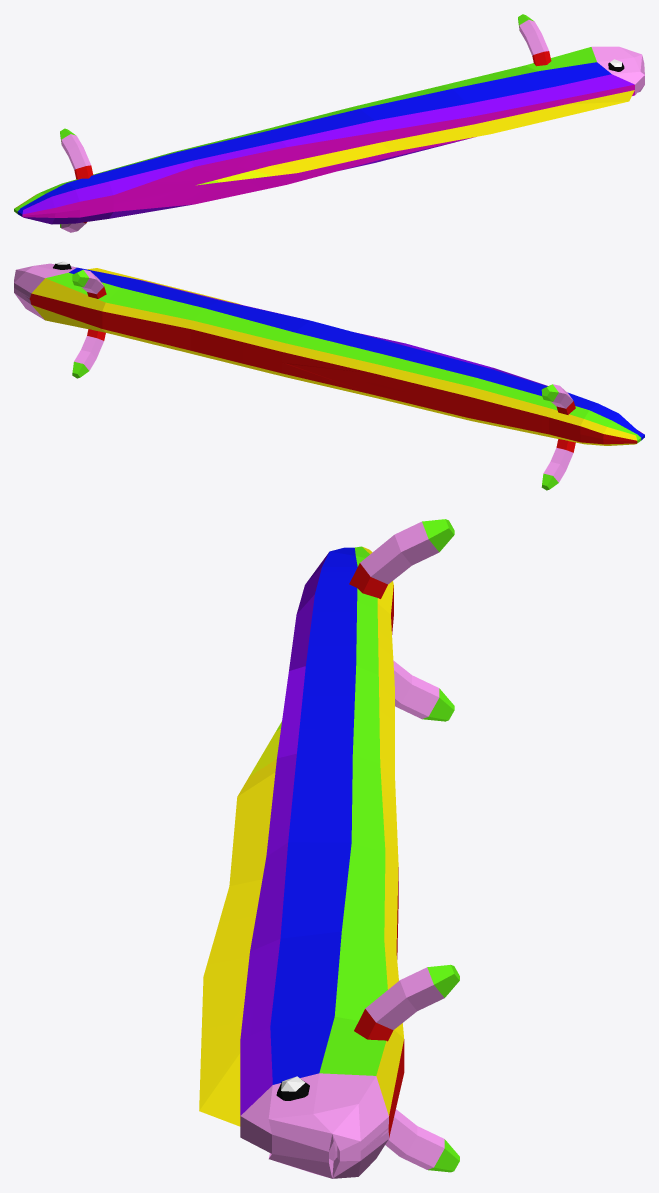
Rendered from OarfishDrip.obj.
3 views of the same model, one above another, from view 1: azimuth 30°, elevation 25°; view 2: azimuth 150°, elevation 25°; view 3: azimuth 270°, elevation 25° (orthographic). The views are drawn at different scales.
Visible parts, largest first — view 1: OarfishDrip_0; view 2: OarfishDrip_0; view 3: OarfishDrip_0.
Part boxes in pixels (x1=…): OarfishDrip_0: x1=14, y1=14, x2=644, y2=232; OarfishDrip_0: x1=14, y1=261, x2=644, y2=490; OarfishDrip_0: x1=199, y1=519, x2=459, y2=1178.
Size of the model in its own units: 1.6 by 0.2555 by 0.2907.
Materials: 1 (1 with a texture image).
